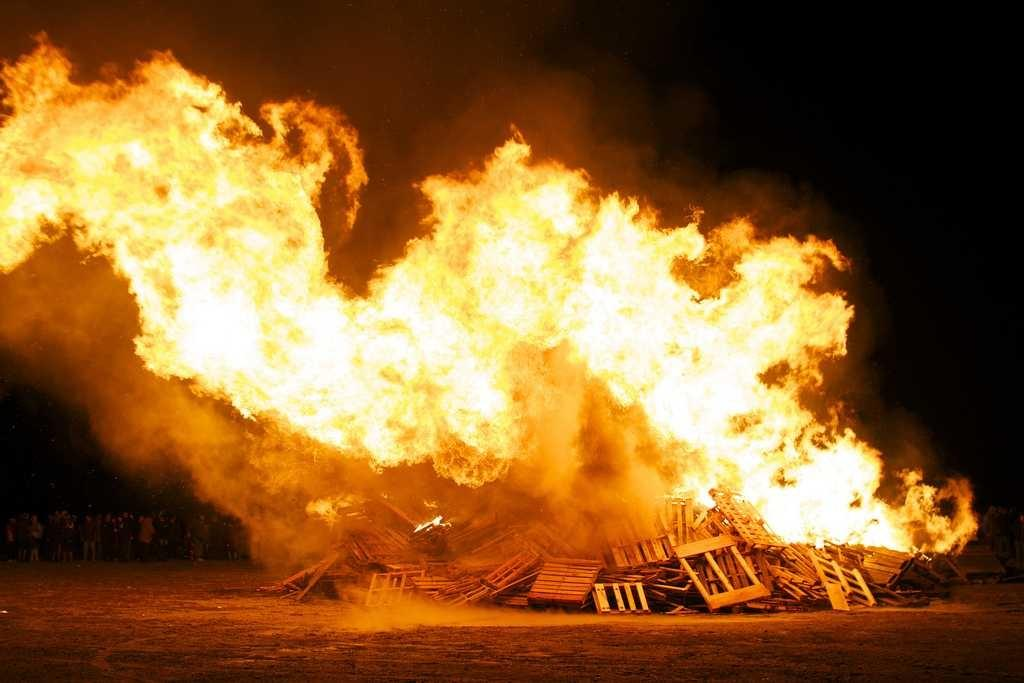fire: (0, 92, 243, 205), (145, 243, 328, 382), (363, 295, 510, 453), (622, 288, 820, 397), (418, 200, 670, 285), (723, 407, 887, 495)
